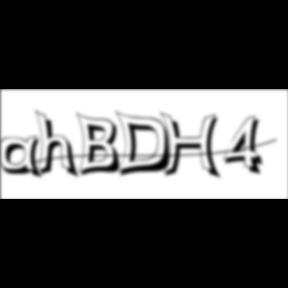4: (222, 115, 270, 179)
B: (76, 111, 126, 179)
D: (114, 110, 178, 180)
H: (160, 112, 226, 182)
a: (0, 135, 48, 182)
h: (36, 108, 82, 182)
